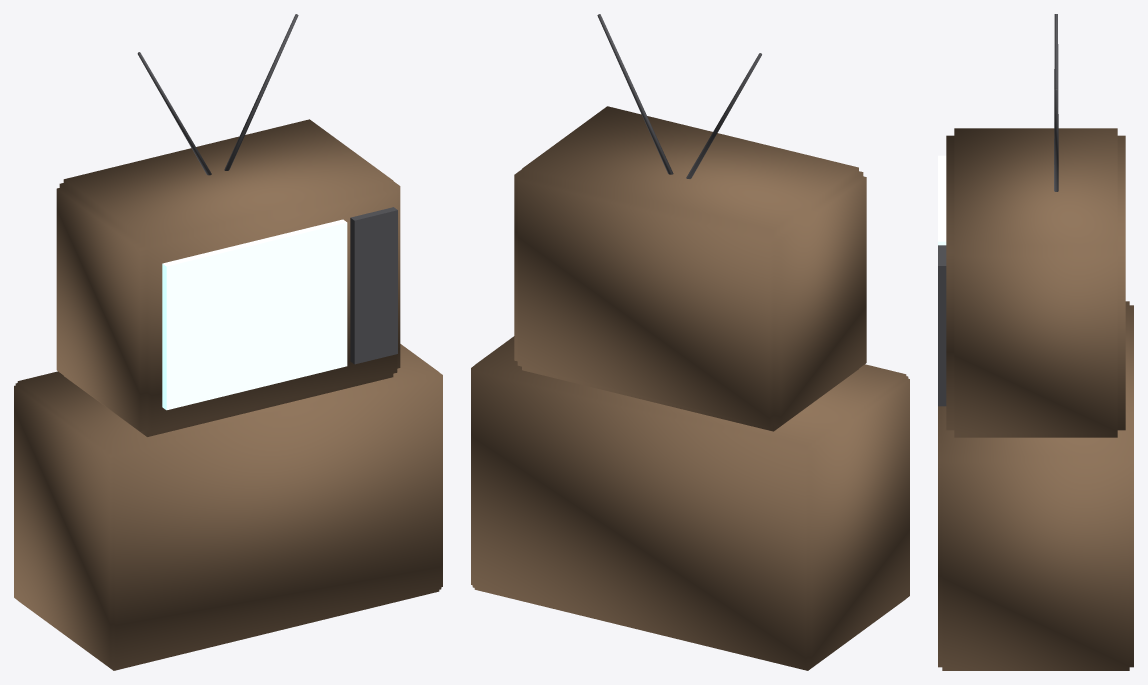
The model's file is crt_tv_set.glb.
The picture shows the model from 3 angles, left to right: view 1: azimuth 30°, elevation 25°; view 2: azimuth 150°, elevation 25°; view 3: azimuth 270°, elevation 25°; orthographic projection. The views are drawn at different scales.
Parts seen in each view (by area): view 1: CabinetStand, TVHousing, CRTGlass, ControlPanel, RabbitEar_0.12, RabbitEar_-0.12; view 2: CabinetStand, TVHousing, RabbitEar_0.12, RabbitEar_-0.12; view 3: TVHousing, CabinetStand, ControlPanel, CRTGlass, RabbitEar_0.12, RabbitEar_-0.12.
Boxes of the visible parts, box(x1,y1,x2,y2) form: CabinetStand: box(14, 344, 442, 670); TVHousing: box(56, 119, 400, 436); CRTGlass: box(162, 219, 347, 410); ControlPanel: box(350, 207, 397, 364); RabbitEar_0.12: box(224, 14, 298, 170); RabbitEar_-0.12: box(137, 52, 211, 175); CabinetStand: box(471, 336, 909, 670); TVHousing: box(514, 106, 866, 431); RabbitEar_0.12: box(597, 14, 673, 174); RabbitEar_-0.12: box(686, 53, 761, 178); TVHousing: box(946, 128, 1125, 437); CabinetStand: box(938, 301, 1133, 670); ControlPanel: box(938, 245, 946, 406); CRTGlass: box(938, 155, 946, 245); RabbitEar_0.12: box(1054, 88, 1058, 191); RabbitEar_-0.12: box(1054, 14, 1058, 164).
Size of the model in its own units: 0.92 by 1.47 by 0.48.
